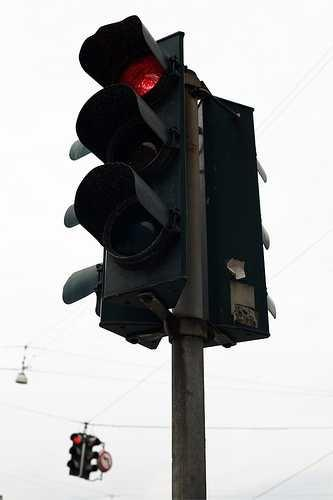red: (82, 21, 175, 260), (82, 17, 168, 102)
